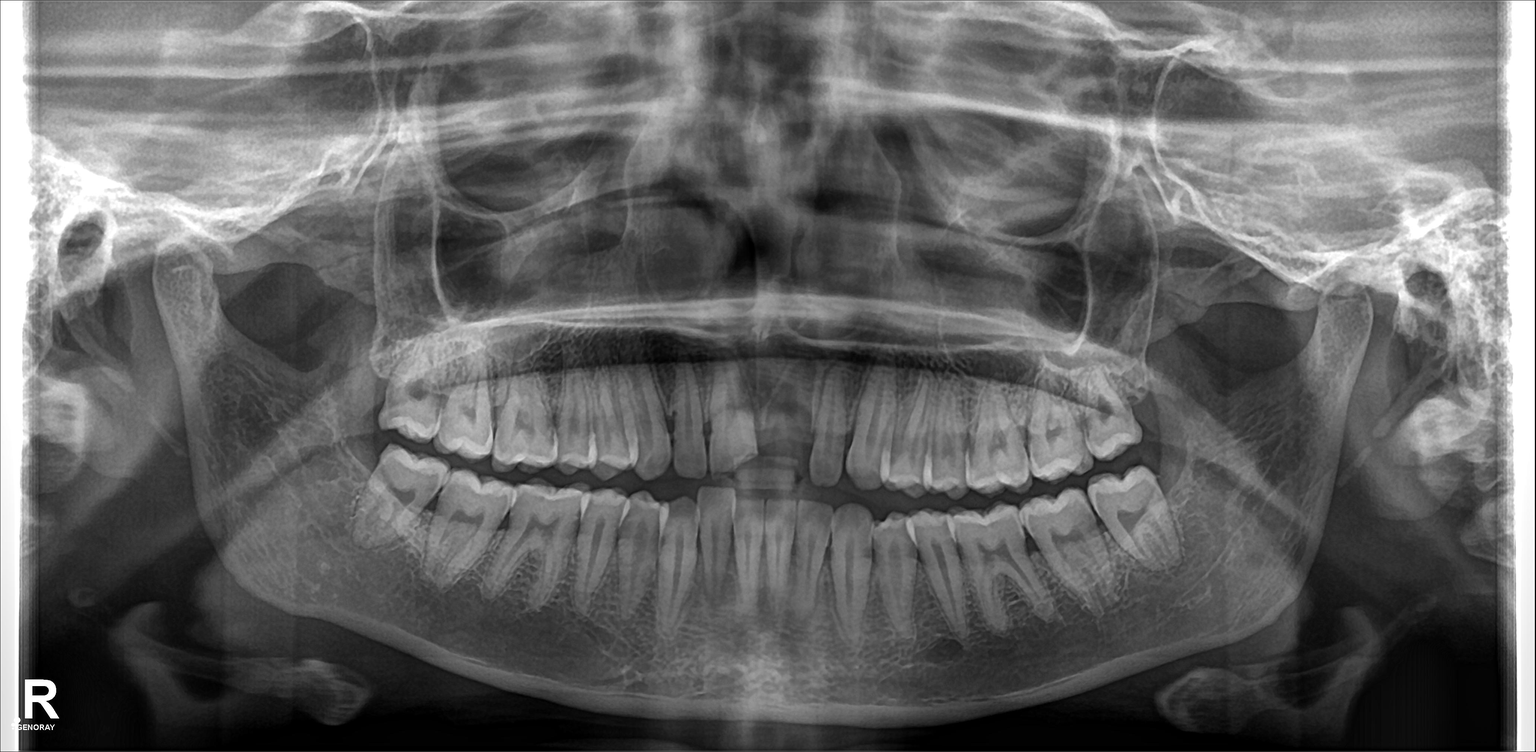Missing Tooth: (758, 376, 810, 483), (335, 426, 374, 515)
